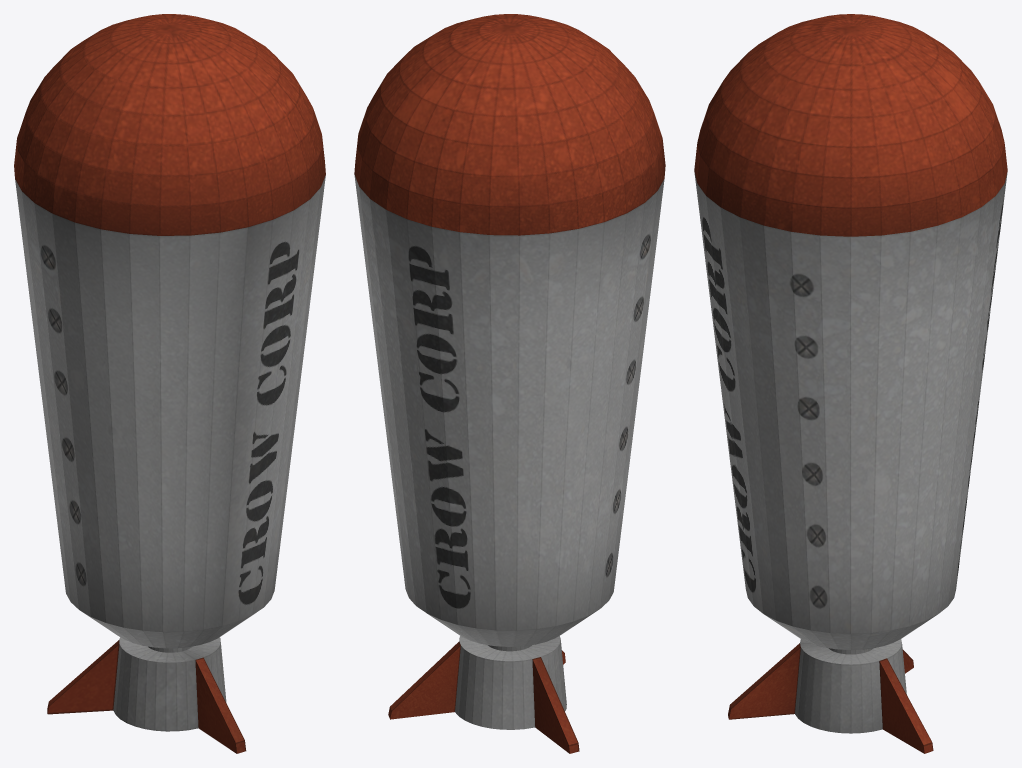
Rendered from rocket.fbx.
3 views of the same model, side by side, from view 1: azimuth 30°, elevation 25°; view 2: azimuth 150°, elevation 25°; view 3: azimuth 270°, elevation 25° (orthographic).
Parts seen in each view (by area): view 1: Sphere; view 2: Sphere; view 3: Sphere.
Part boxes in pixels (box(x1,y1,x2,y2)): Sphere: box(14, 14, 325, 753); Sphere: box(354, 14, 665, 753); Sphere: box(694, 14, 1007, 753).
Size of the model in its own units: 0.9431 by 2.27 by 0.9431.
